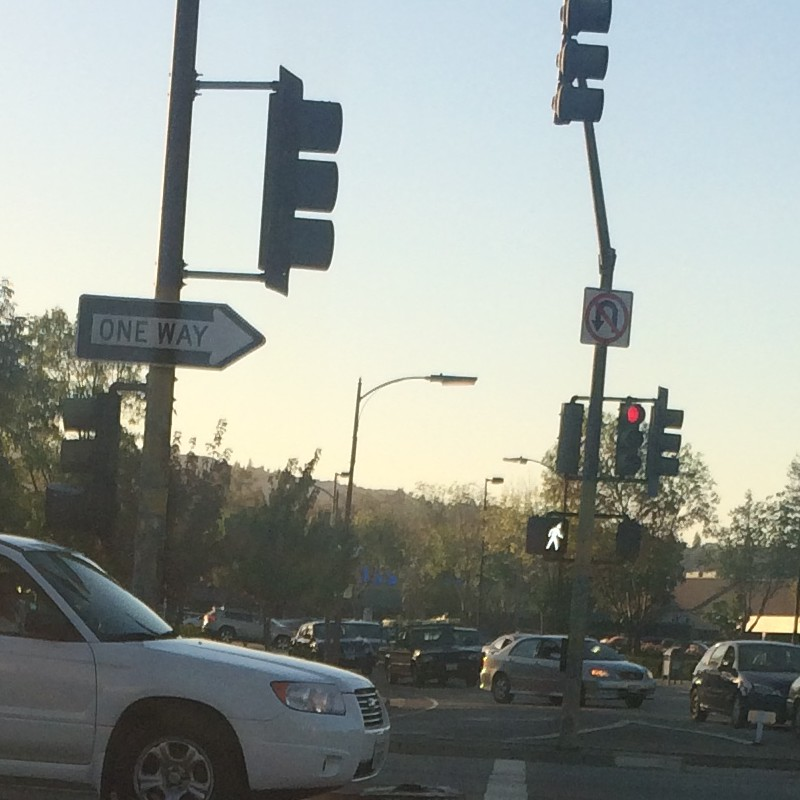go: (522, 511, 576, 559)
